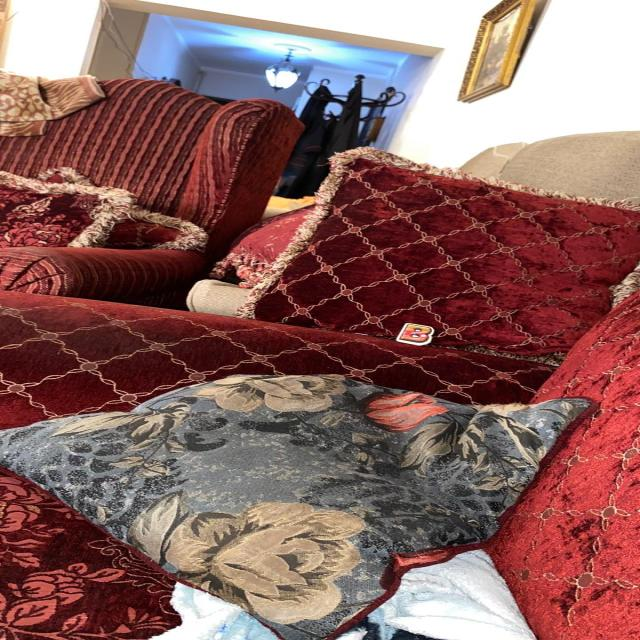B: (396, 323, 434, 344)
